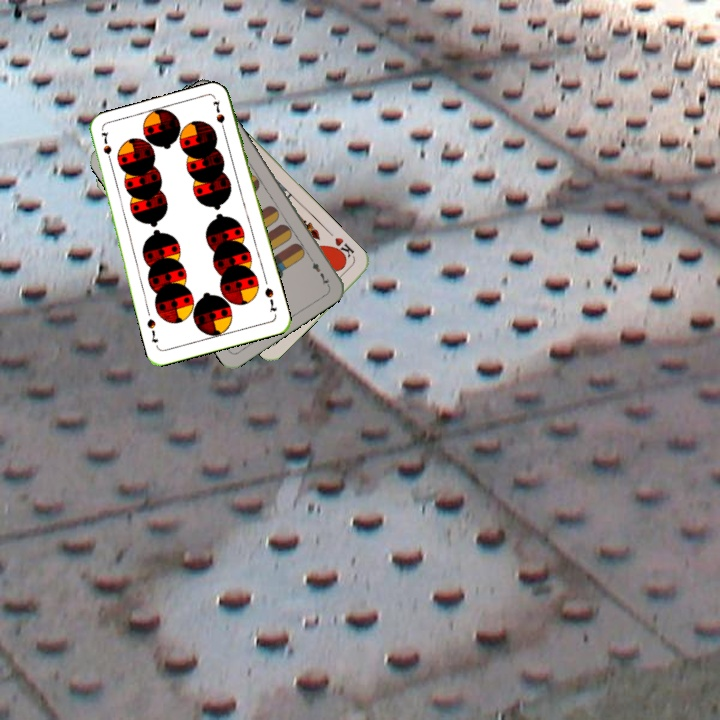E7: (305, 252, 332, 288)
HK: (327, 233, 358, 263)
S7: (97, 128, 115, 167), (261, 283, 279, 315)
